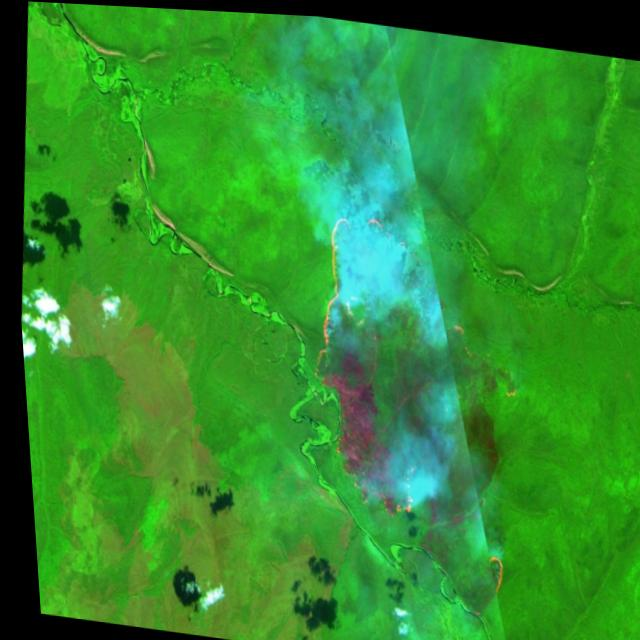fire: (294, 193, 413, 383), (373, 452, 418, 521), (467, 531, 506, 594)
